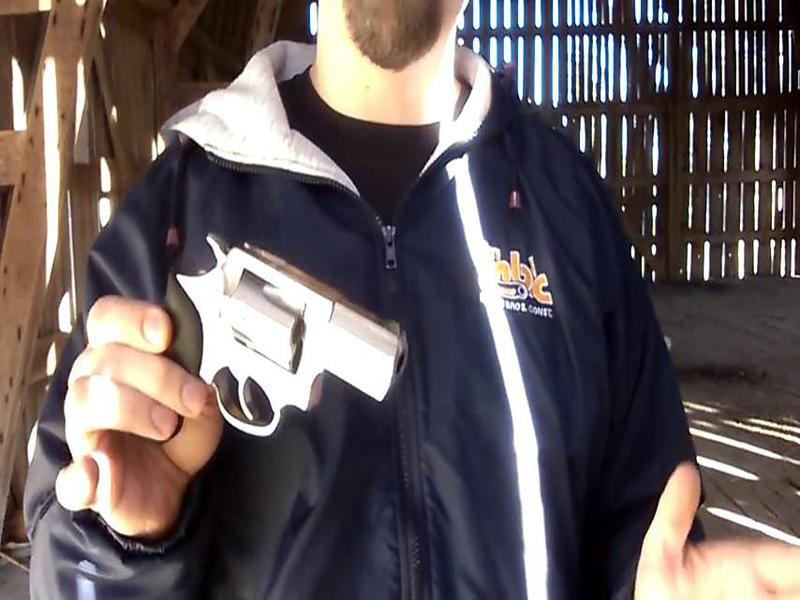Revolver: (116, 204, 420, 462)
